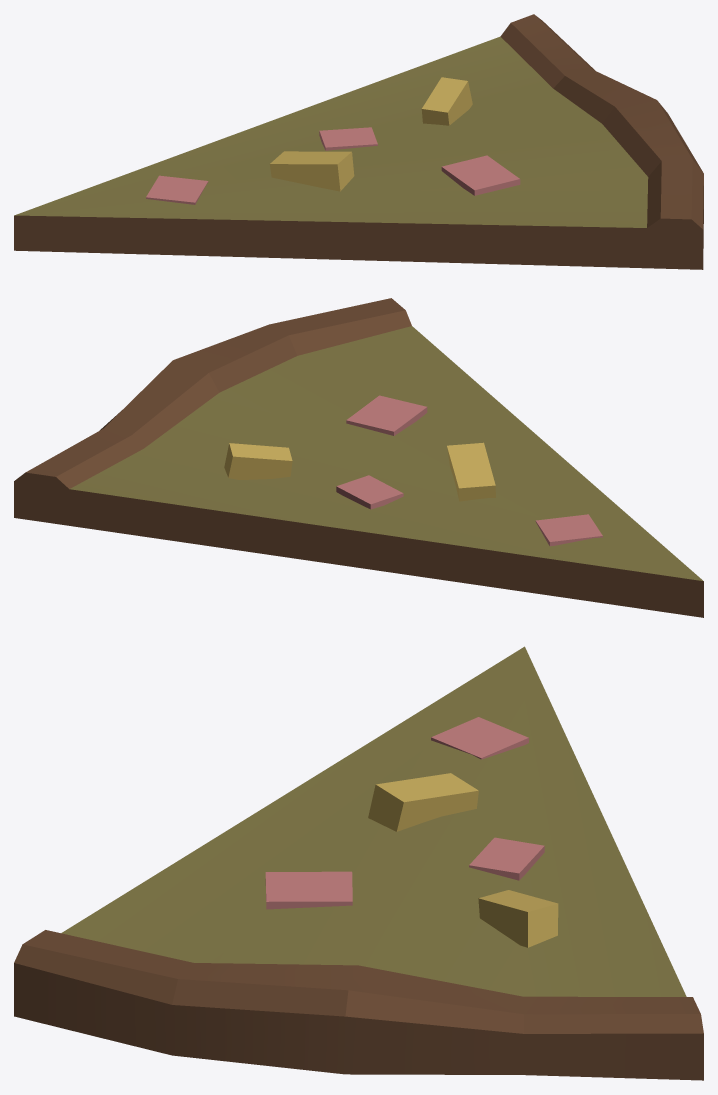
Rendered from Pizza_Slice_02.fbx.
The picture shows the model from 3 angles, top to bottom: view 1: azimuth 30°, elevation 25°; view 2: azimuth 150°, elevation 25°; view 3: azimuth 270°, elevation 25°; orthographic projection. The views are drawn at different scales.
Parts seen in each view (by area): view 1: Slice_02; view 2: Slice_02; view 3: Slice_02.
Boxes of the visible parts, box(x1,y1,x2,y2) form: Slice_02: box(14, 14, 703, 269); Slice_02: box(14, 298, 703, 617); Slice_02: box(14, 646, 703, 1080).
Bounding box in the file's own units: 19.95 × 1.99 × 15.02.
